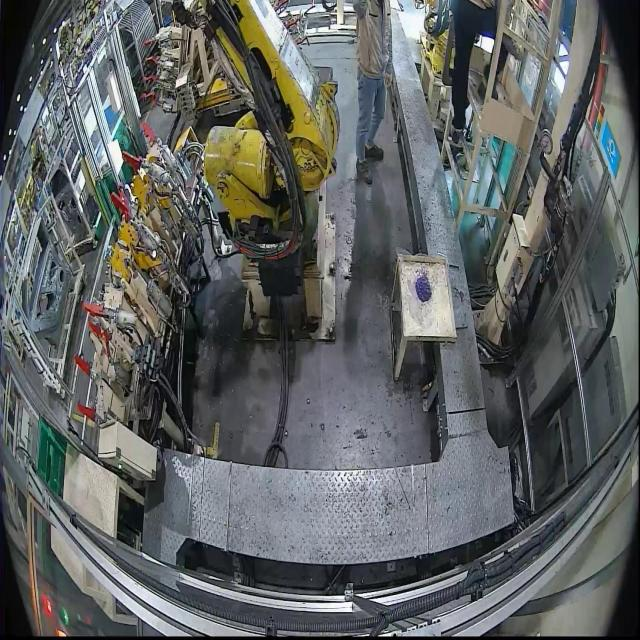Person: (447, 0, 506, 145), (352, 0, 392, 185)
